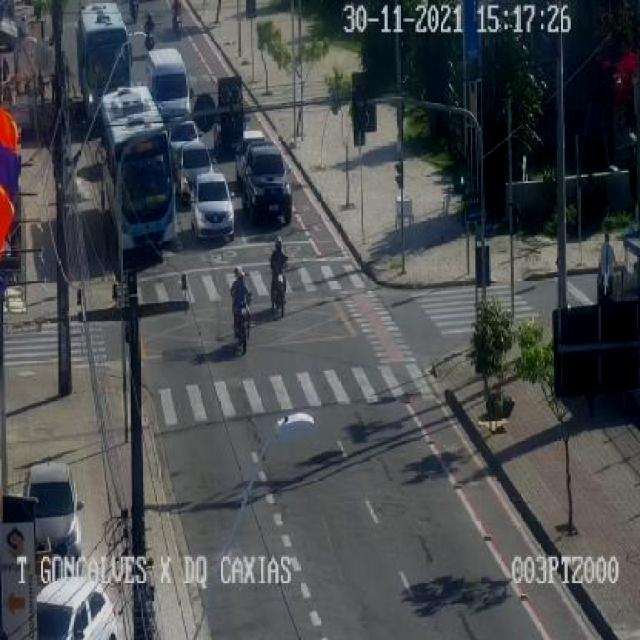Bus: (97, 85, 178, 255), (76, 4, 131, 120)
Car: (21, 463, 84, 562), (39, 575, 119, 640), (245, 146, 297, 222), (189, 172, 233, 237), (174, 142, 215, 200), (166, 120, 204, 151), (237, 126, 266, 166)
Cycle: (229, 296, 251, 354), (268, 266, 292, 317), (172, 15, 184, 39), (144, 28, 155, 49)
Van: (148, 45, 195, 124)
